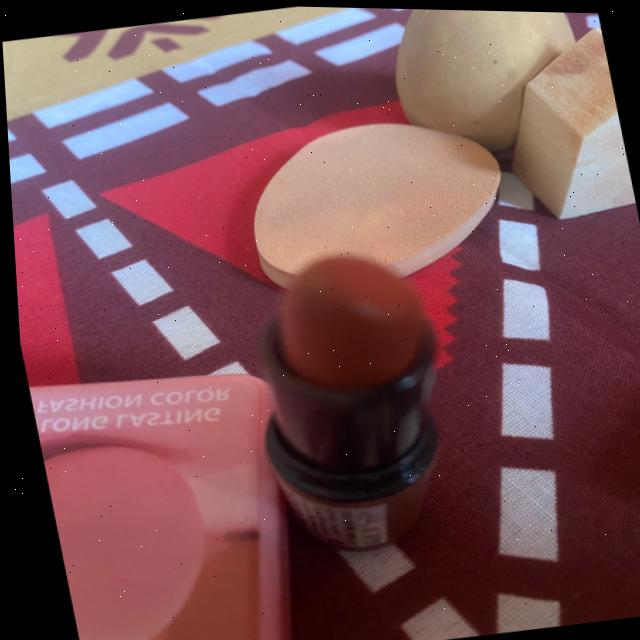beauty blender: (194, 56, 528, 288), (350, 6, 609, 166), (475, 16, 636, 227)
blush: (23, 355, 282, 640)
lip stick: (203, 228, 482, 569)
